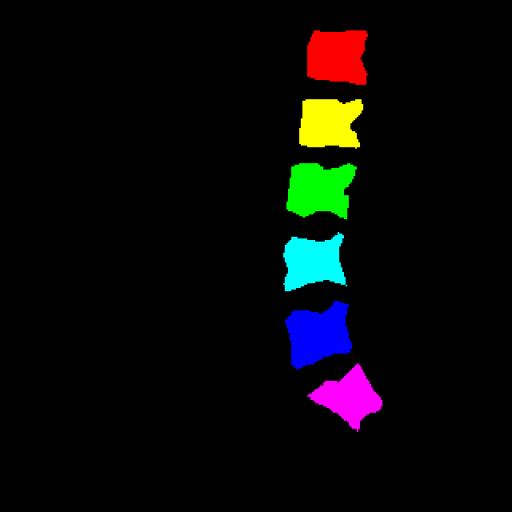L1: (307, 30, 367, 84)
L2: (300, 99, 363, 148)
L3: (288, 163, 356, 218)
L4: (283, 234, 346, 290)
L5: (287, 301, 350, 368)
S1: (308, 364, 382, 430)
